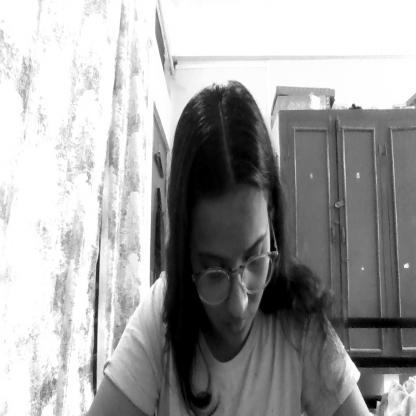Normal: (176, 109, 274, 346)
